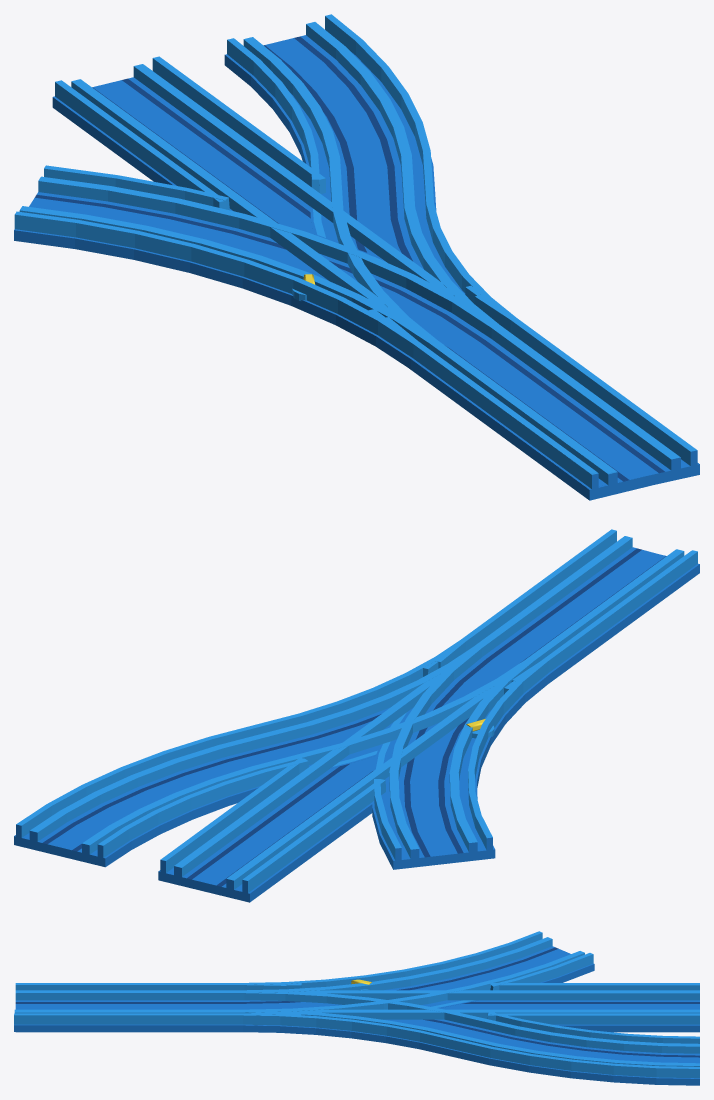
Rendered from Track_Auto_Point.fbx.
The picture shows the model from 3 angles, top to bottom: view 1: azimuth 30°, elevation 25°; view 2: azimuth 150°, elevation 25°; view 3: azimuth 270°, elevation 25°; orthographic projection. The views are drawn at different scales.
Visible parts, largest first — view 1: Molded rail branch, Molded rail double, Molded rail through; view 2: Molded rail branch, Molded rail double, Molded rail through; view 3: Molded rail double, Molded rail branch, Molded rail through.
Part boxes in pixels (left/top/right/bottom): Molded rail branch: left=14, top=165, right=699, bottom=488; Molded rail double: left=224, top=14, right=644, bottom=500; Molded rail through: left=52, top=56, right=647, bottom=500; Molded rail branch: left=372, top=529, right=698, bottom=869; Molded rail double: left=14, top=549, right=699, bottom=867; Molded rail through: left=158, top=551, right=699, bottom=902; Molded rail double: left=15, top=983, right=699, bottom=1085; Molded rail branch: left=14, top=931, right=594, bottom=1031; Molded rail through: left=15, top=983, right=699, bottom=1032.
Bounding box in the file's own units: 433 × 23.41 × 902.
